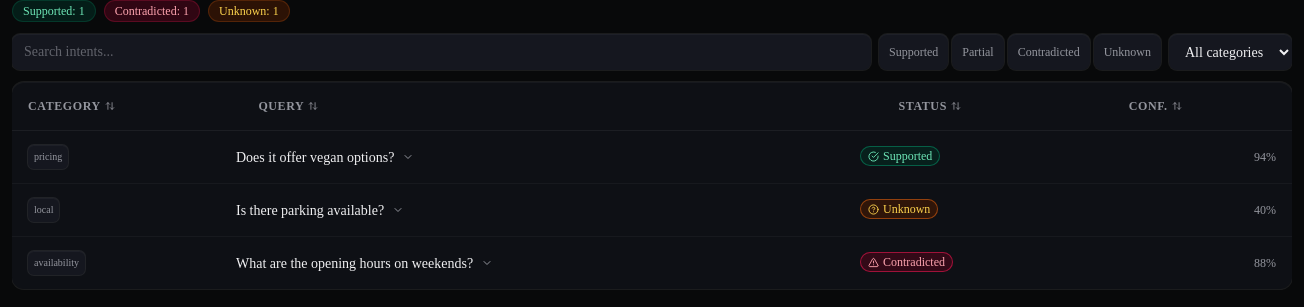
Test: IntentMatrix - search filter › shows 'no results' text when nothing matches
In the search field: [442, 52] box [12, 34, 871, 70], type "xyzxyzxyz"
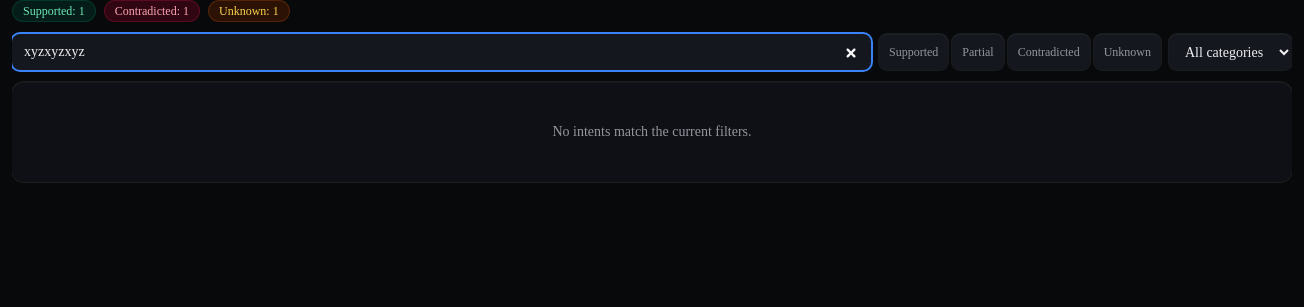
Expected: the text "No intents match the current filters." is shown, [552, 124, 752, 139]
